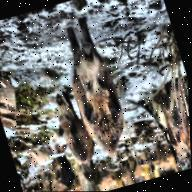boar: (55, 19, 140, 167), (46, 90, 98, 173)
